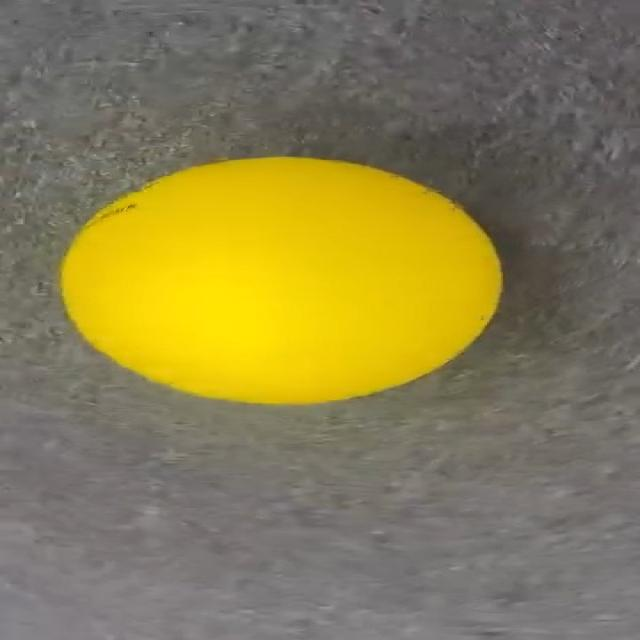Fuels: (62, 157, 498, 402)
